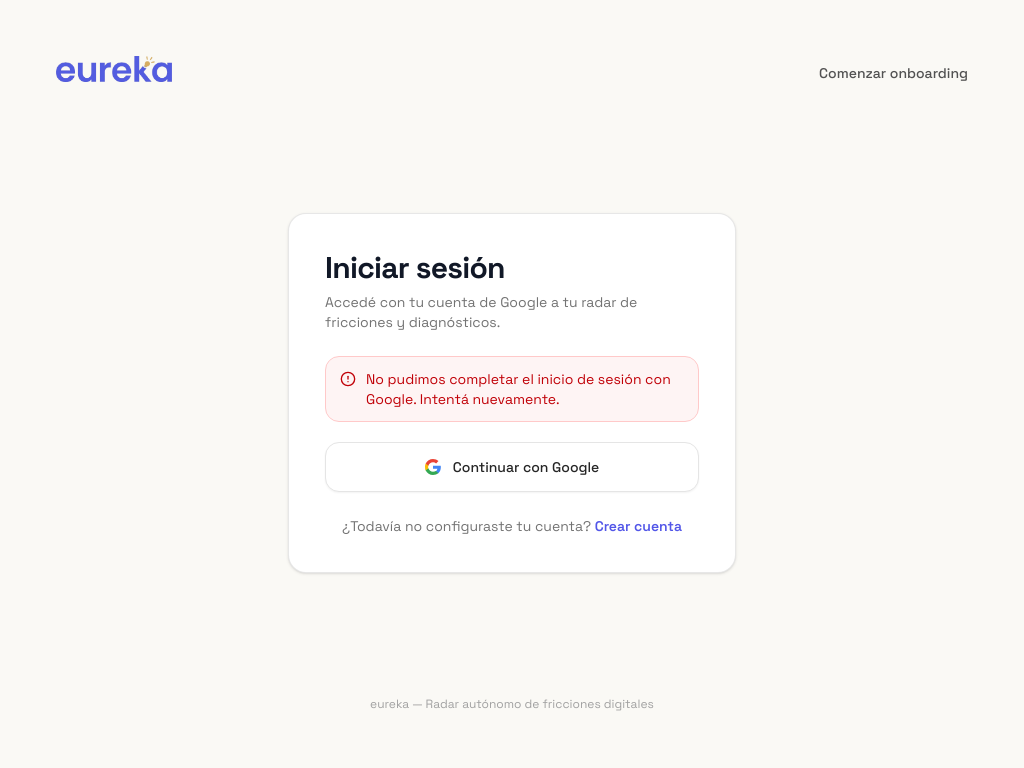
Test: LoginPage › muestra error si llega ?error=google_auth_failed o falla la acción
expect the message shows "No pudimos completar el inicio de sesión con Google.": met, box [366,370,671,408]
Step 1. Click the button "Continuar con Google" → [512, 466], box [325,442,699,492]
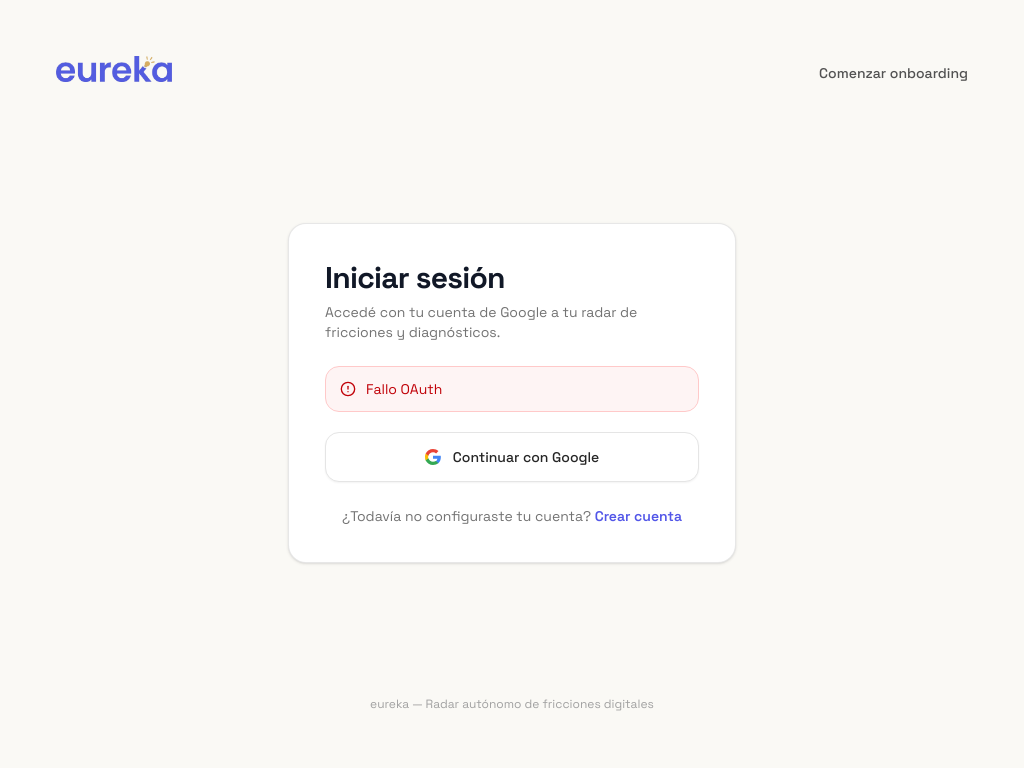
expect the message reads "Fallo OAuth": met, box [366,380,442,398]
